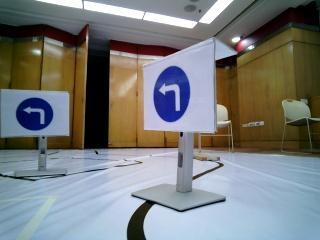left: (139, 48, 211, 134), (2, 94, 65, 137)
